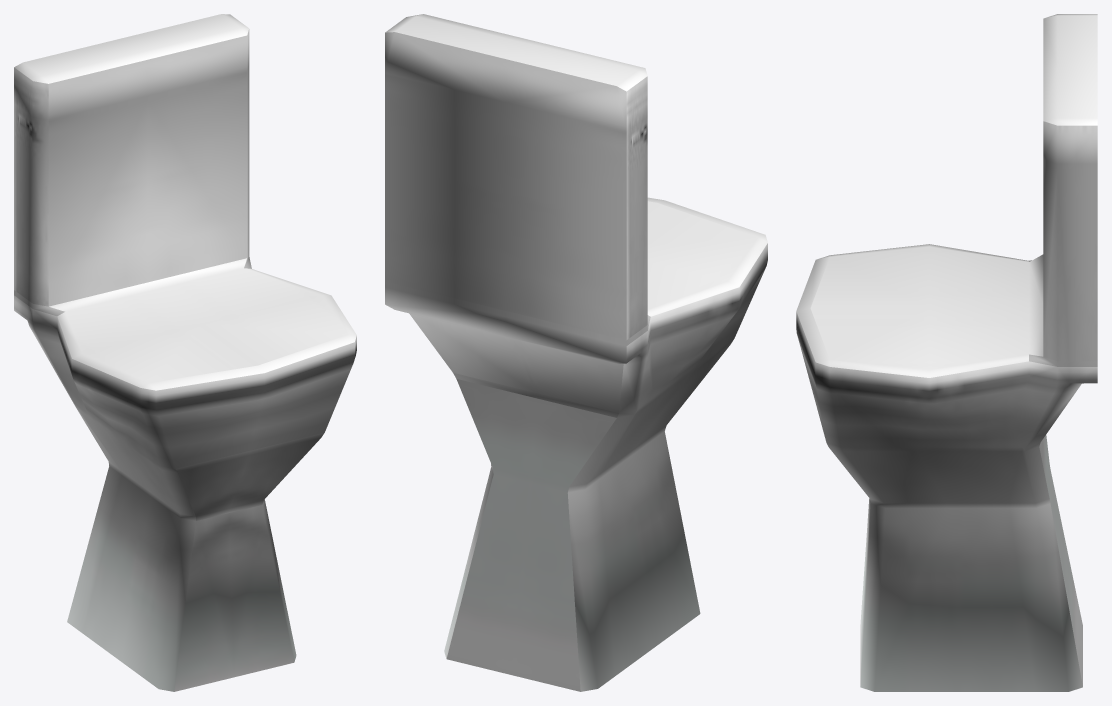
File: Toilet.fbx_Scene.fbx
The picture shows the model from 3 angles, left to right: view 1: azimuth 30°, elevation 25°; view 2: azimuth 150°, elevation 25°; view 3: azimuth 270°, elevation 25°; orthographic projection. The views are drawn at different scales.
Parts seen in each view (by area): view 1: Toilet; view 2: Toilet; view 3: Toilet.
Boxes of the visible parts, x1=… form: Toilet: x1=14, y1=14, x2=356, y2=691; Toilet: x1=385, y1=14, x2=767, y2=691; Toilet: x1=796, y1=14, x2=1097, y2=691.
Bounding box in the file's own units: 54.49 × 112 × 51.79.
1 material, 1 textured.
